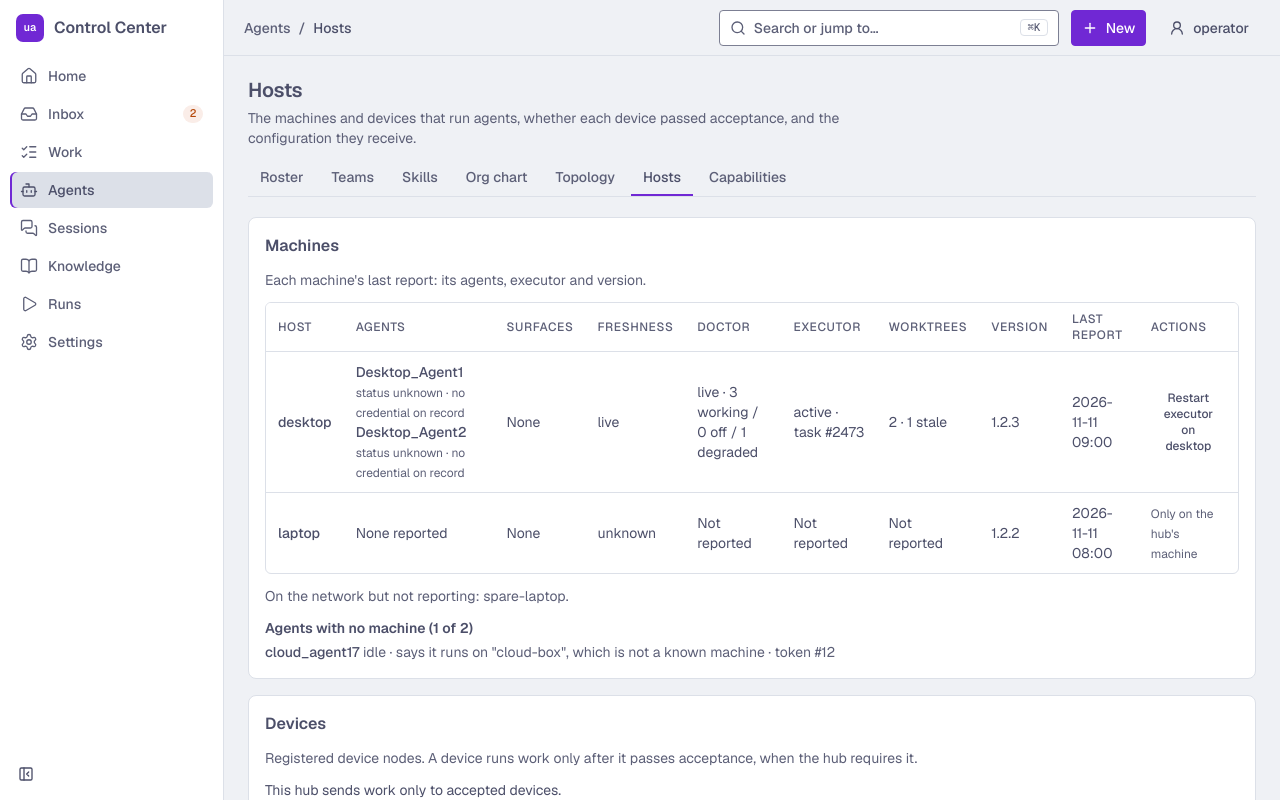
Test case: hosts: machines › shows a parked restart as waiting for approval, not as sent
This screenshot has width=1280, height=800.
What coordinates should you click on to do the following:
click the button "Restart executor on desktop"
I would click on:
 (1188, 422)
Its box is x1=1151 y1=385 x2=1226 y2=459.
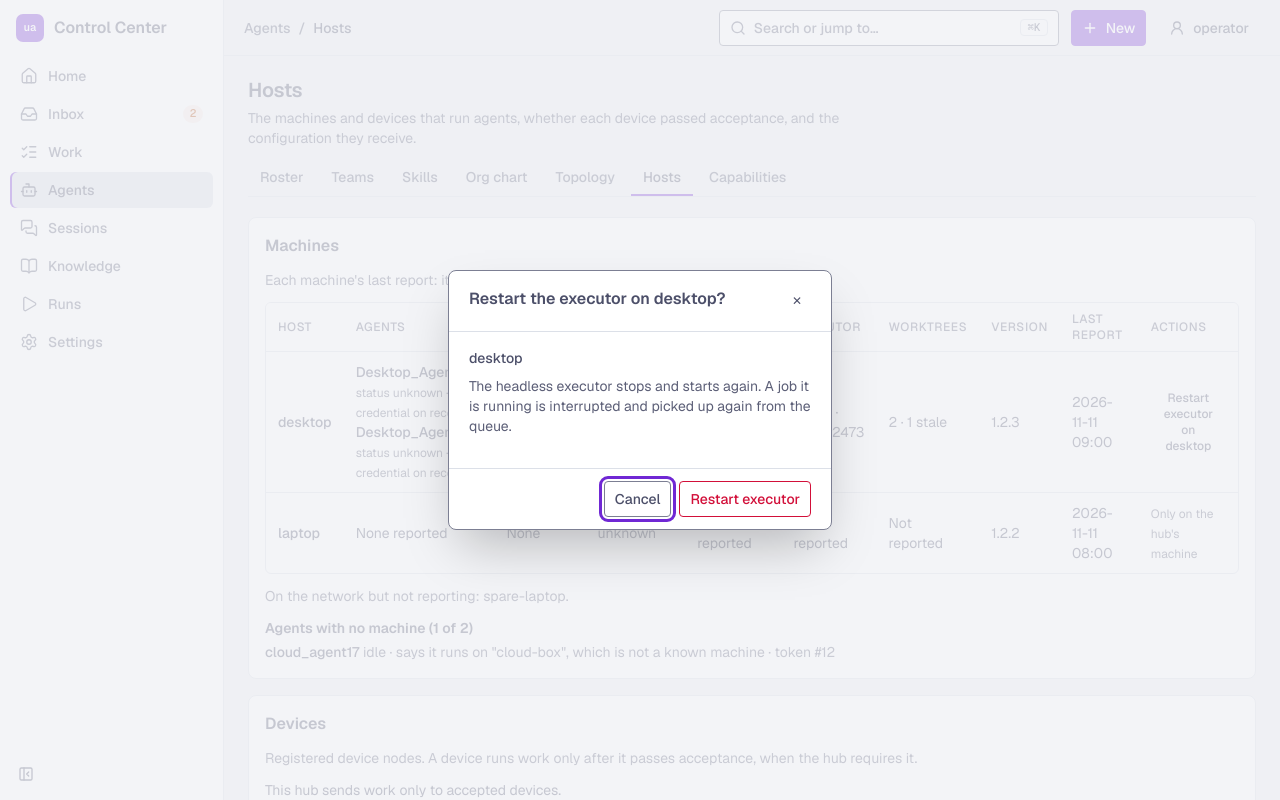
What coordinates should you click on to do the following:
click the button "Restart executor"
I would click on:
 (745, 499)
Its box is x1=679 y1=481 x2=811 y2=517.
(page scrolled)
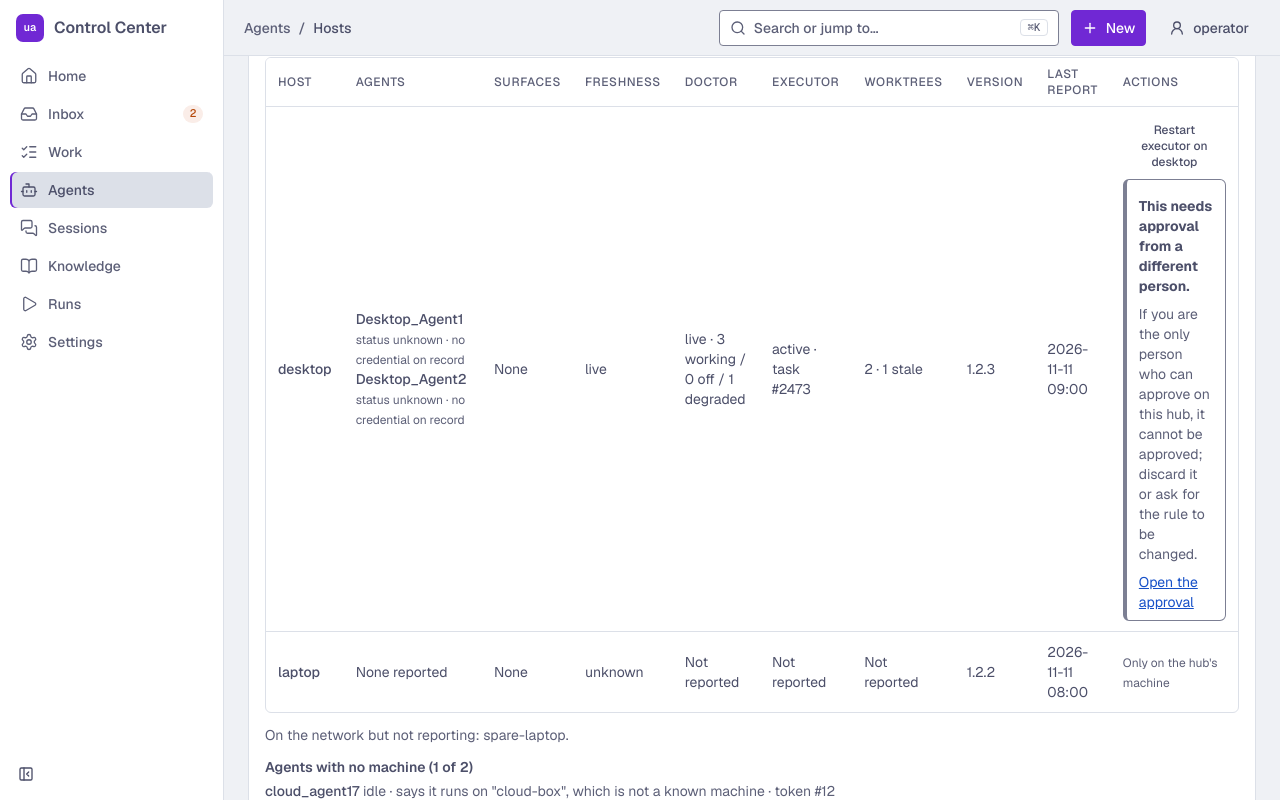
Result: the element named "Approval status" is shown at x1=1123 y1=179 x2=1226 y2=621
